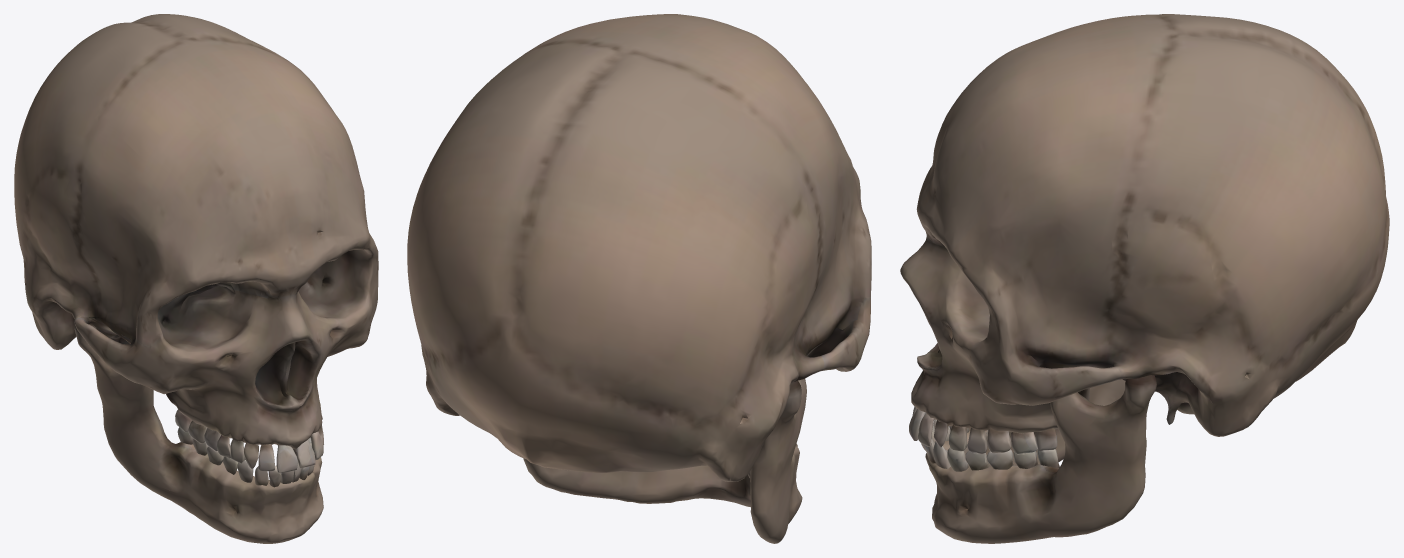
3 renders of one model, left to right at view 1: azimuth 30°, elevation 25°; view 2: azimuth 150°, elevation 25°; view 3: azimuth 270°, elevation 25°, orthographic. The views are drawn at different scales.
Visible parts, largest first — view 1: Object_2; view 2: Object_2; view 3: Object_2.
Part boxes in pixels (<box>): Object_2: <box>14,14,378,543</box>; Object_2: <box>407,14,871,543</box>; Object_2: <box>900,14,1389,543</box>.
Size of the model in its own units: 1.34 by 2 by 1.79.
1 material, 1 textured.
